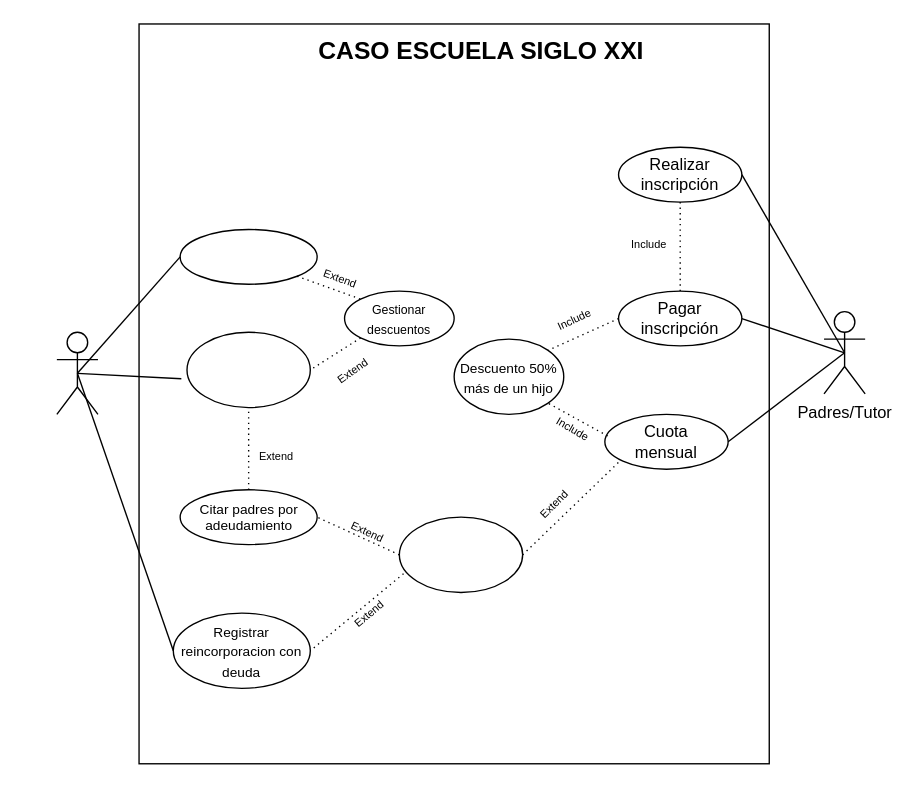
This 915x788 diagram has some shape labels left out. The shapes that lost their labels are listed below. From the top down, each one's centre as x and y in pixels, then its label:
At (x=248, y=256): "Gestionar inscripciones".
At (x=76, y=372): "Administración".
At (x=248, y=369): "Gestionar cobro de cuotas".
At (x=460, y=554): "Pagar en cuotas".
